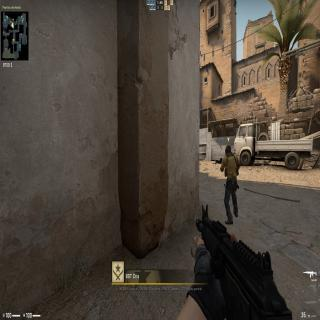T-Head: (224, 143, 232, 157)
